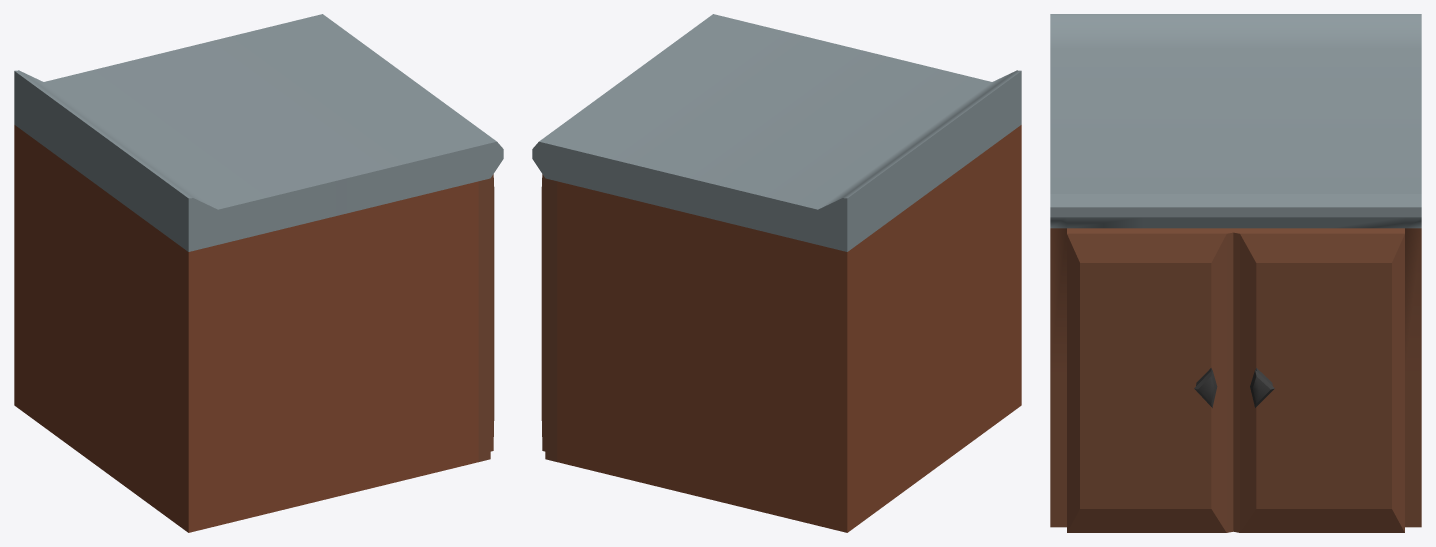
The model's file is kitchenCounter.fbx.
3 renders of one model, left to right at view 1: azimuth 30°, elevation 25°; view 2: azimuth 150°, elevation 25°; view 3: azimuth 270°, elevation 25°, orthographic. The views are drawn at different scales.
Parts seen in each view (by area): view 1: cabinet; view 2: cabinet; view 3: cabinet.
Part boxes in pixels (x1,y1,x2,y2): cabinet: [14, 14, 503, 532]; cabinet: [532, 14, 1021, 532]; cabinet: [1050, 14, 1421, 532].
Bounding box in the file's own units: 2.23 × 2.12 × 2.
